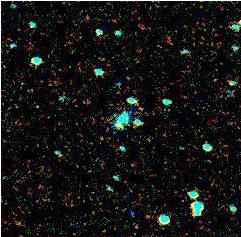star: (104, 106, 134, 136)
